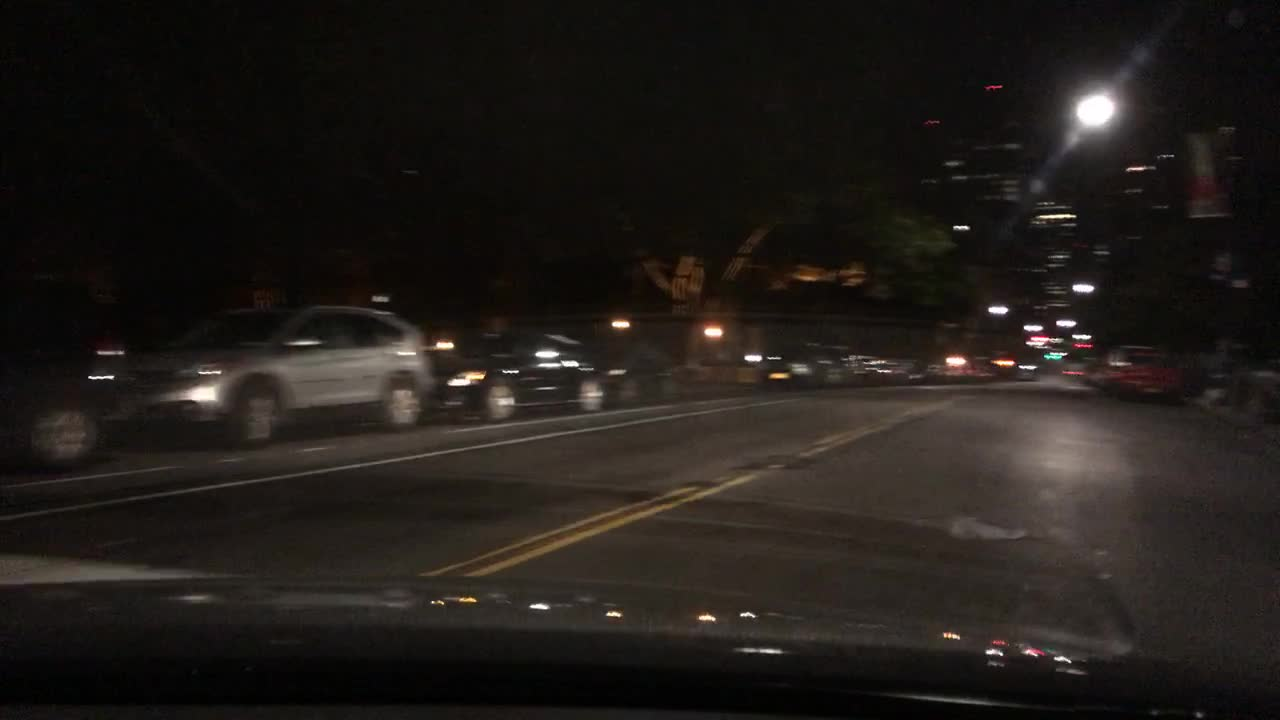car: (125, 300, 438, 452), (0, 273, 143, 472), (428, 327, 606, 427), (577, 332, 683, 407), (754, 334, 859, 395), (1086, 342, 1184, 401), (840, 337, 933, 391), (918, 334, 1002, 388), (1056, 336, 1107, 383), (990, 342, 1043, 381)
